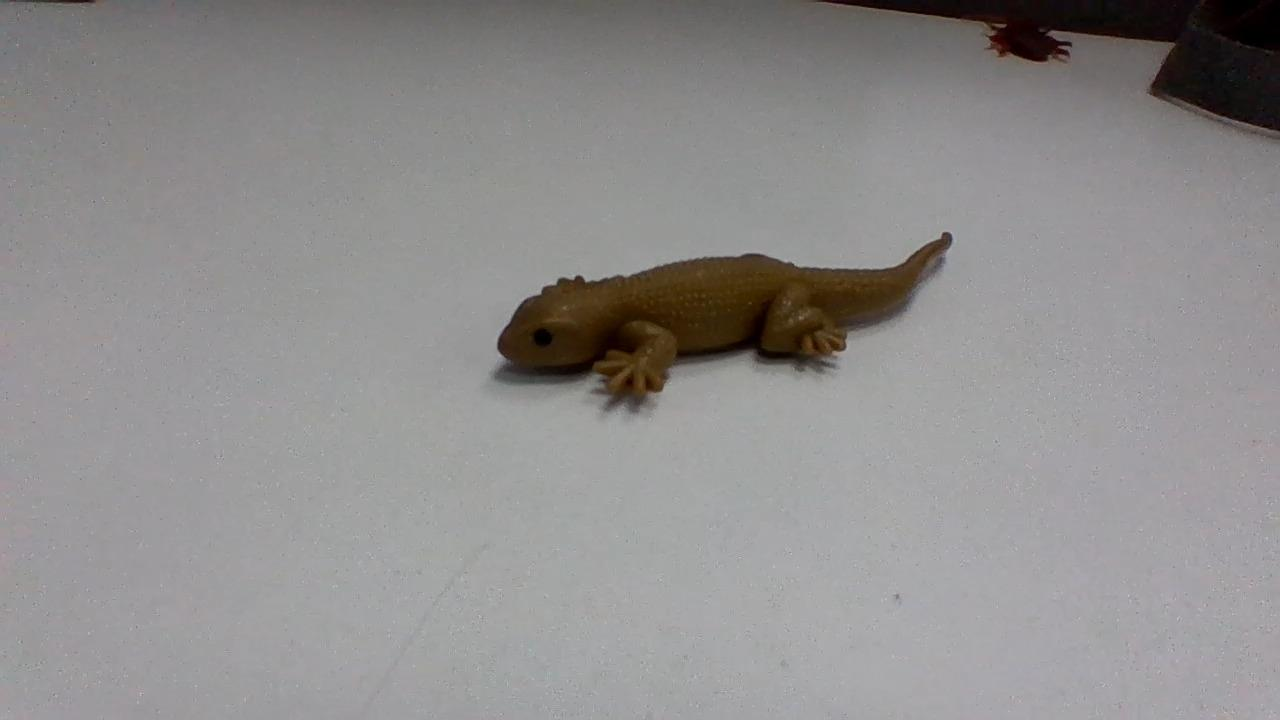lizard: (475, 232, 951, 406)
